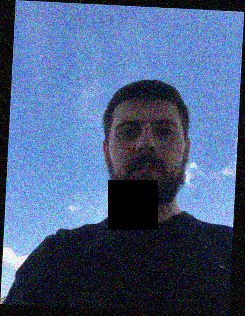without_mask: (107, 114, 184, 208)
